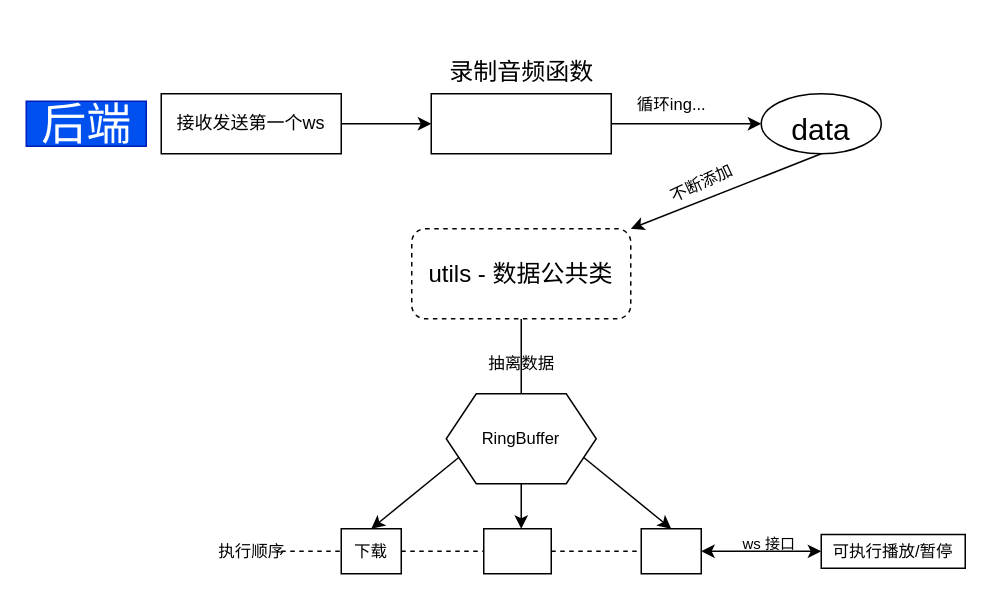
Some shapes in this 992 by 600 pixel diagram are drawn without their labels. Here are the shapes that lost their labels. From the top down, the box of each, then its label:
(430, 92, 611, 154): PyAudio
(482, 527, 551, 574): 绘制
(640, 527, 701, 574): 播放
